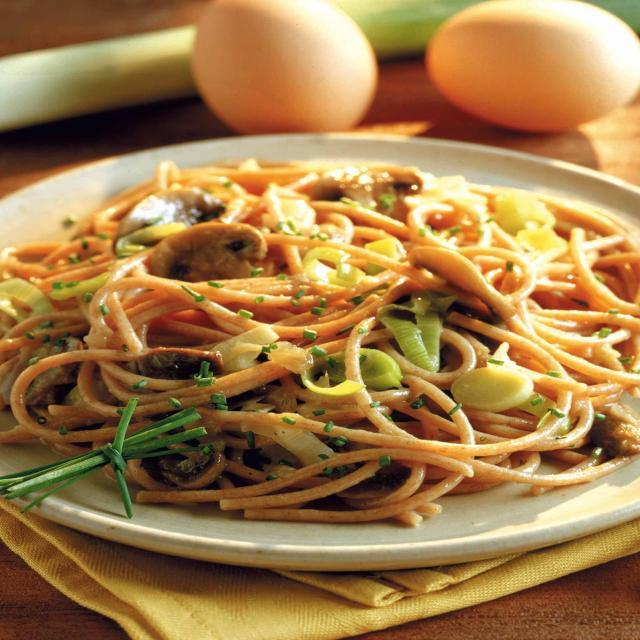Pasta with carbonara sauce: (20, 135, 640, 559)
